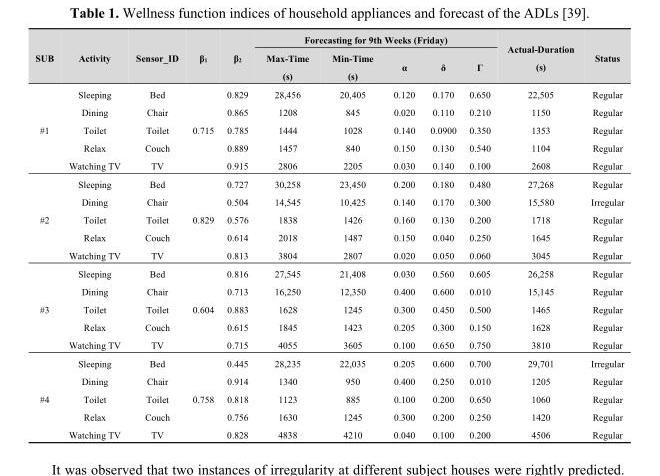table: (34, 34, 623, 439)
table column: (498, 34, 581, 439), (60, 34, 127, 439), (256, 34, 319, 439), (319, 34, 382, 439), (127, 34, 184, 439), (581, 34, 623, 439), (421, 34, 462, 439), (382, 34, 421, 439), (219, 34, 256, 439), (462, 34, 498, 439), (184, 34, 219, 439), (34, 34, 60, 439)
table column header: (34, 34, 623, 84)
table row: (34, 48, 623, 84), (34, 84, 623, 102), (34, 102, 623, 120), (34, 120, 623, 138), (34, 138, 623, 156), (34, 156, 623, 174), (34, 174, 623, 192), (34, 192, 623, 210), (34, 210, 623, 228), (34, 228, 623, 246), (34, 246, 623, 264), (34, 264, 623, 282), (34, 282, 623, 300), (34, 317, 623, 335), (34, 335, 623, 353), (34, 353, 623, 371), (34, 371, 623, 389), (34, 389, 623, 407), (34, 407, 623, 425), (34, 300, 623, 317), (34, 34, 623, 48), (34, 425, 623, 439)
table spanning cell: (498, 34, 581, 84), (256, 34, 498, 48), (60, 34, 127, 84), (184, 84, 219, 174), (184, 174, 219, 264), (184, 264, 219, 353), (184, 353, 219, 439), (127, 34, 184, 84), (34, 84, 60, 174), (34, 174, 60, 264), (34, 264, 60, 353), (34, 353, 60, 439), (581, 34, 623, 84), (219, 34, 256, 84), (184, 34, 219, 84), (34, 34, 60, 84)
